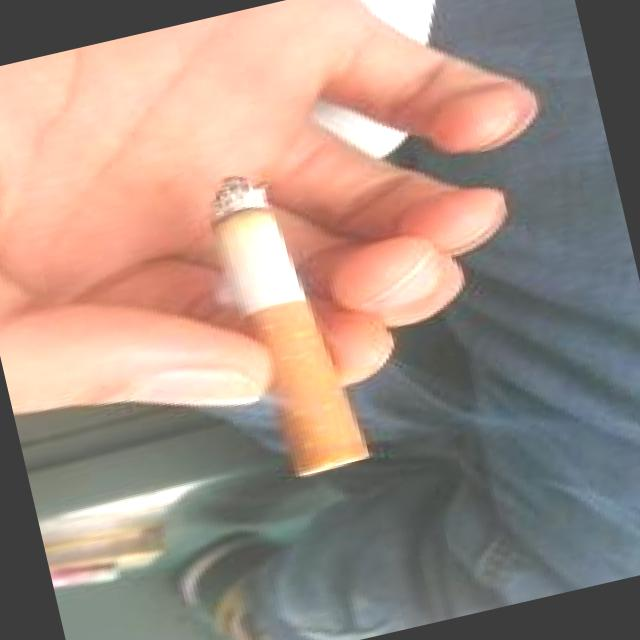smoke: (193, 152, 373, 498)
